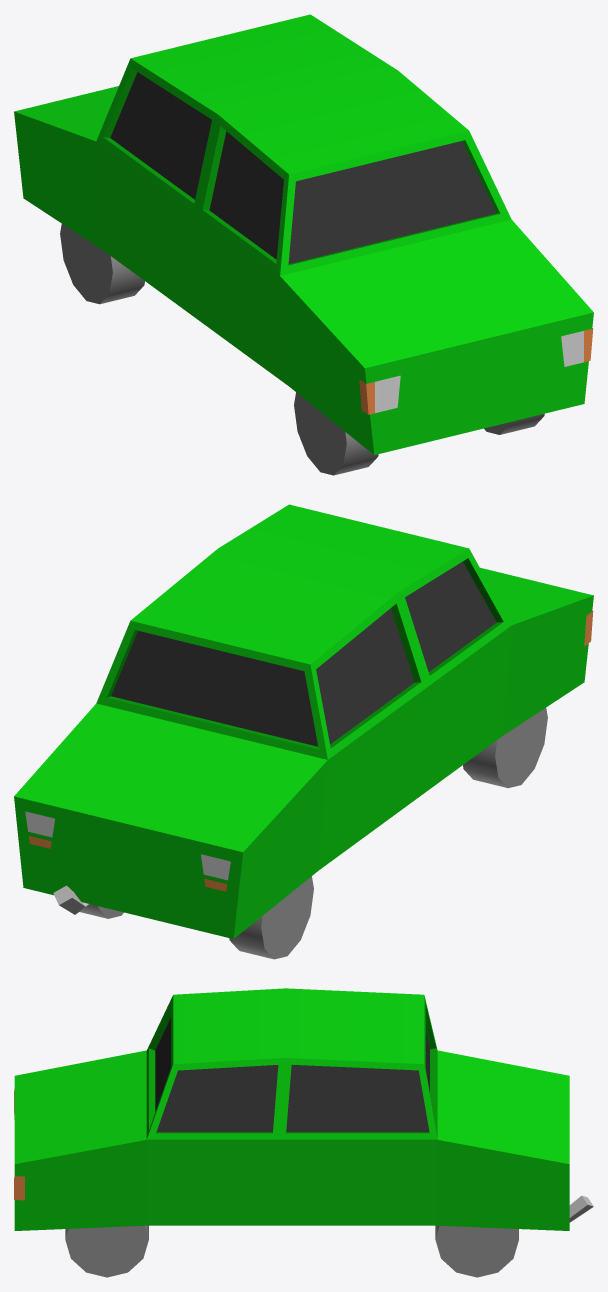
File: car_02.fbx
3 views of the same model, one above another, from view 1: azimuth 30°, elevation 25°; view 2: azimuth 150°, elevation 25°; view 3: azimuth 270°, elevation 25° (orthographic). The views are drawn at different scales.
Visible parts, largest first — view 1: car_02; view 2: car_02; view 3: car_02.
Boxes of the visible parts, box(x1,y1,x2,y2) form: car_02: box(14, 14, 593, 475); car_02: box(14, 504, 593, 959); car_02: box(14, 988, 593, 1277).
Size of the model in its own units: 1.6 by 1.8 by 4.39.
